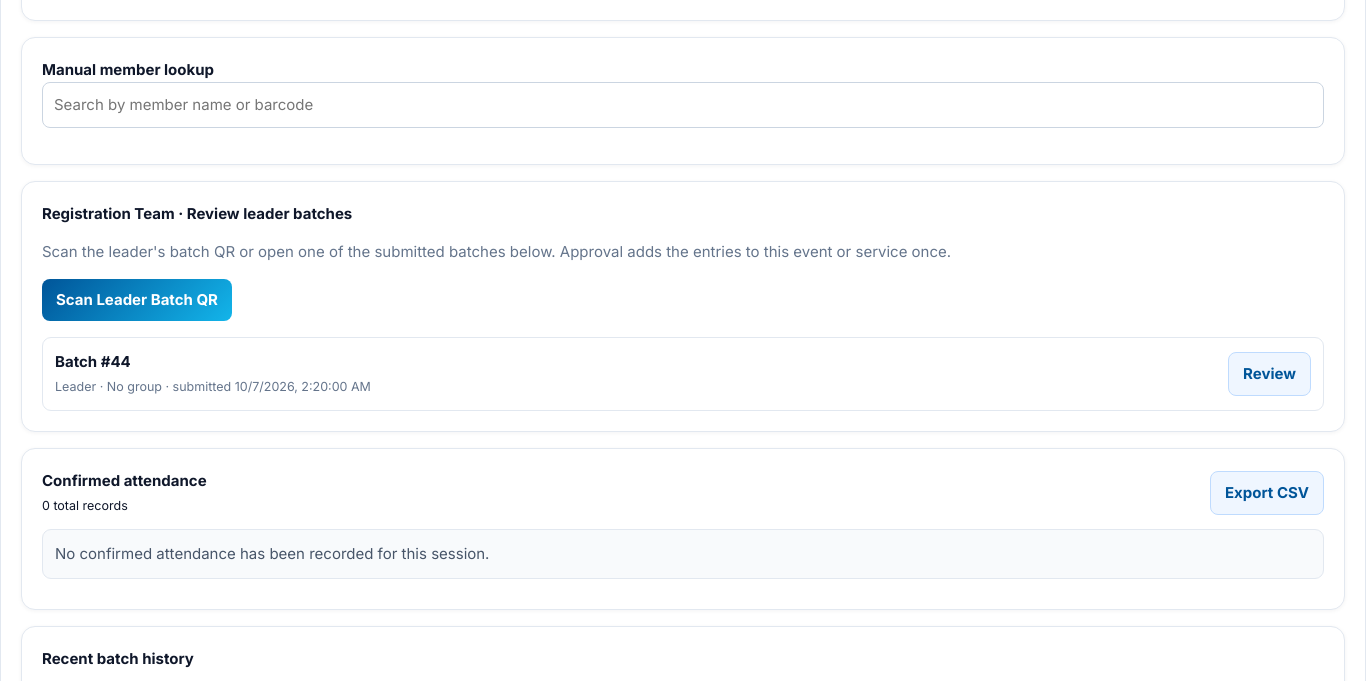
Test case: QR attendance workspace role flows › lets Registration Team review the saved batch and approve it once
(page scrolled)
Step 1. Click the button "Review" → coordinates (1270, 374), box [1228,352,1311,396]
(page scrolled)
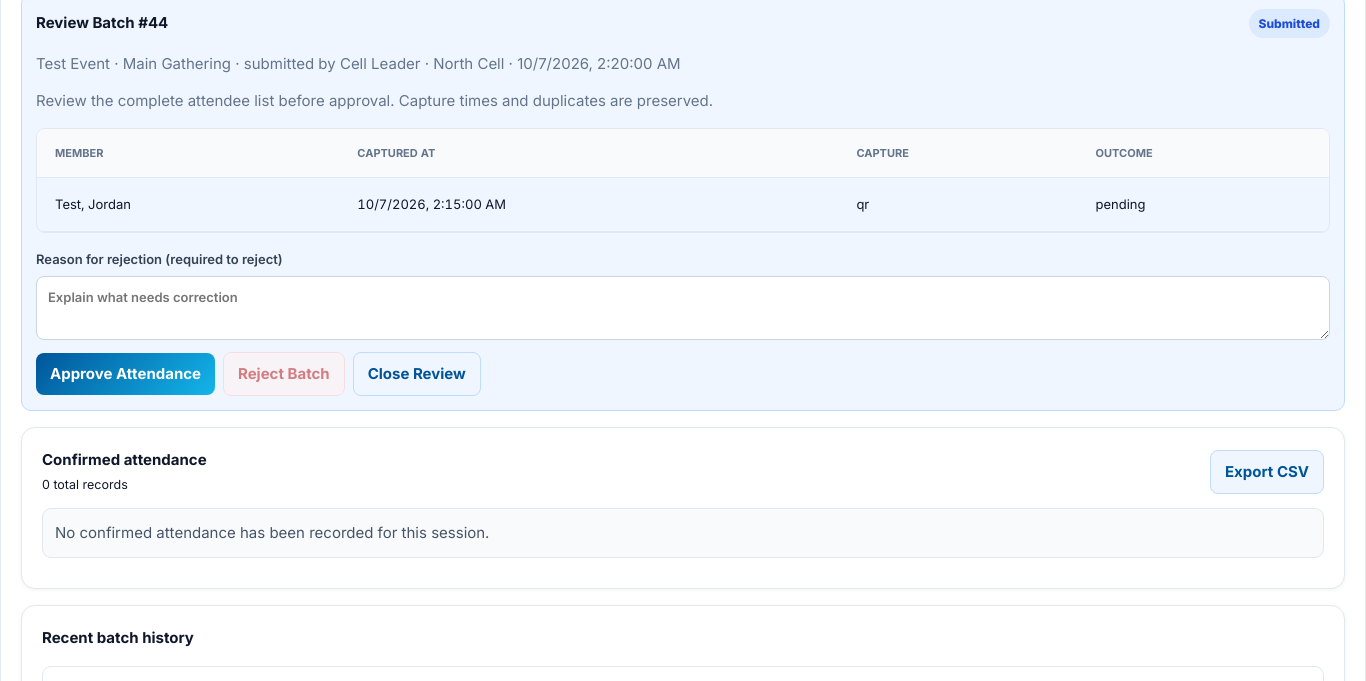
Expected: the text "Test, Jordan" is shown, [37,178,339,232]
Step 2. Click the button "Approve Attendance" → coordinates (126, 374), box [36,353,215,395]
(page scrolled)
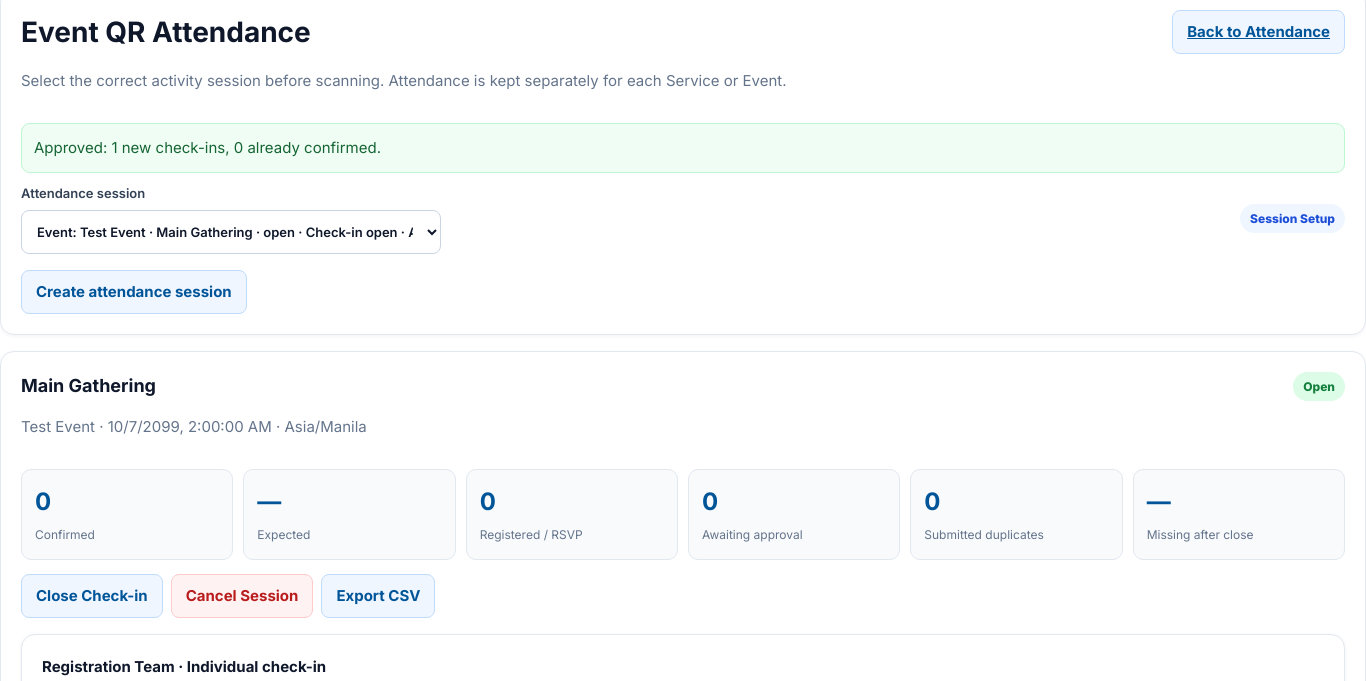
Expected: the text "Approved: 1 new check-ins, 0 already confirmed." is shown, [21,123,1345,173]
